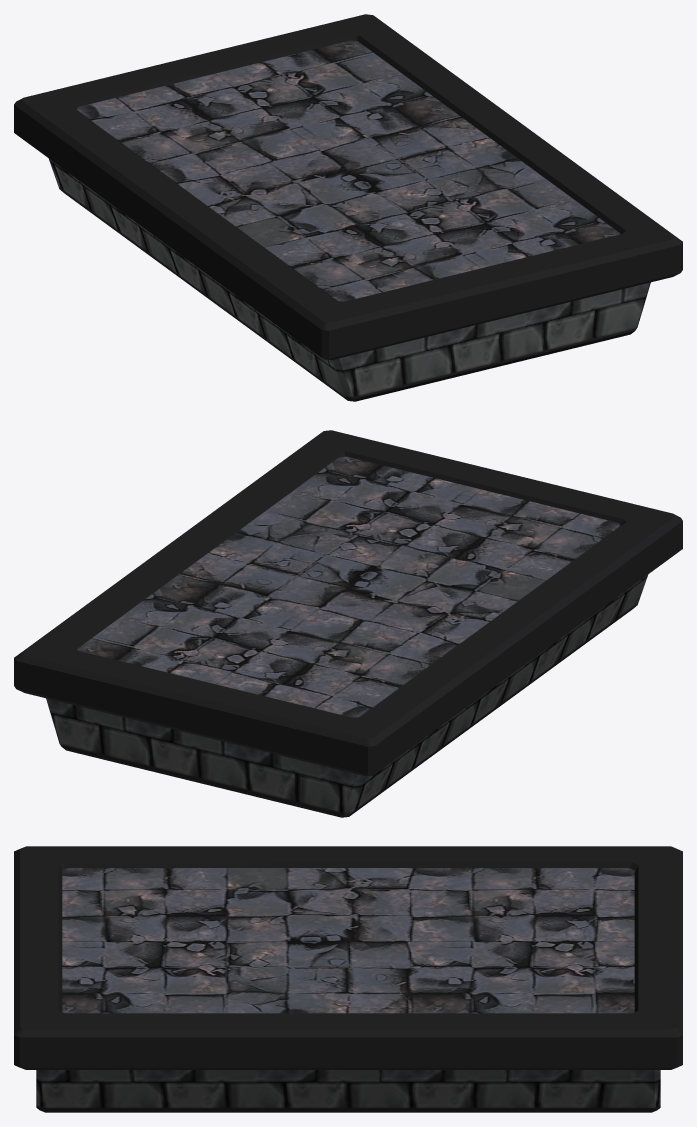
File: M_Platform_2.fbx
3 views of the same model, one above another, from view 1: azimuth 30°, elevation 25°; view 2: azimuth 150°, elevation 25°; view 3: azimuth 270°, elevation 25° (orthographic). The views are drawn at different scales.
Visible parts, largest first — view 1: M_Platform_2; view 2: M_Platform_2; view 3: M_Platform_2.
Boxes of the visible parts, box(x1,y1,x2,y2) form: M_Platform_2: box(14, 14, 682, 401); M_Platform_2: box(14, 430, 682, 817); M_Platform_2: box(14, 846, 682, 1112).
Bounding box in the file's own units: 200 × 49.7 × 300.
